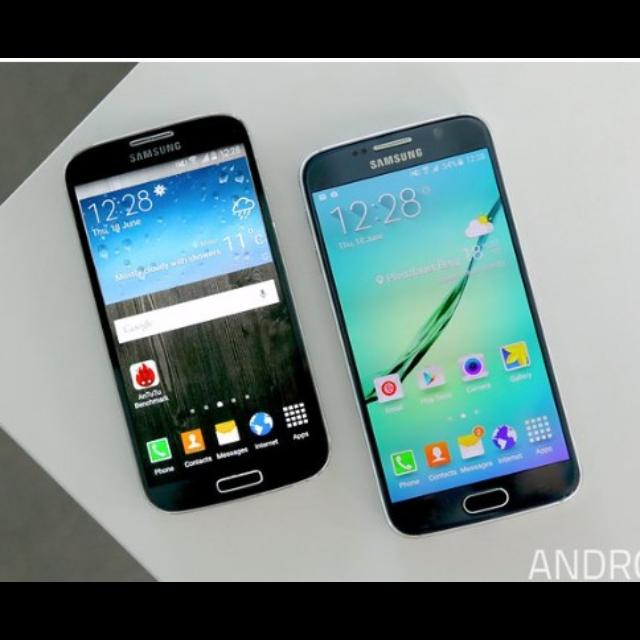Smartphone: (301, 115, 582, 539), (65, 116, 329, 516)
